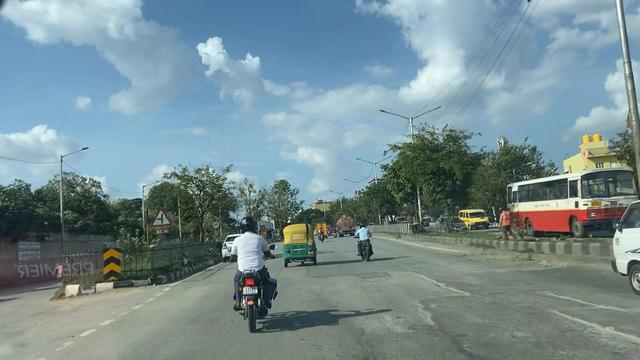HMV: (504, 153, 637, 239)
RoadDamages: (382, 263, 473, 328)
